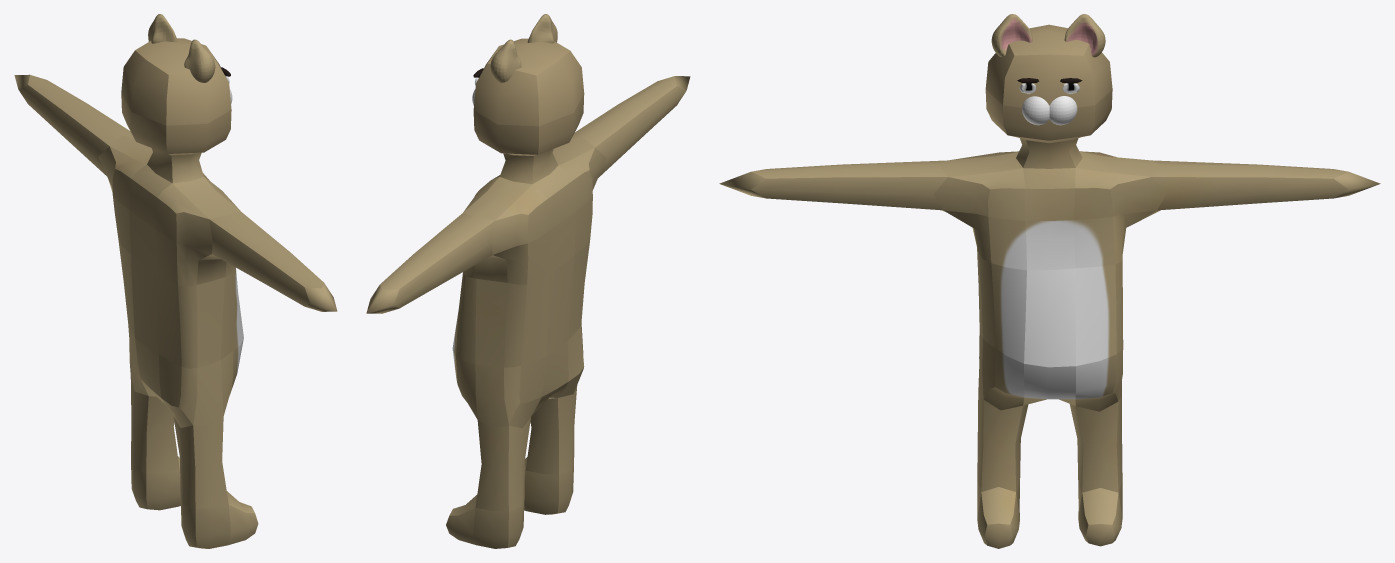
Rendered from Voxel.fbx.
3 views of the same model, side by side, from view 1: azimuth 30°, elevation 25°; view 2: azimuth 150°, elevation 25°; view 3: azimuth 270°, elevation 25° (orthographic). The views are drawn at different scales.
Visible parts, largest first — view 1: Sphere; view 2: Sphere; view 3: Sphere.
Boxes of the visible parts, left/top/right/bottom form: Sphere: left=14, top=14, right=337, bottom=548; Sphere: left=366, top=14, right=690, bottom=548; Sphere: left=719, top=14, right=1380, bottom=548.
Bounding box in the file's own units: 5.46 × 24.83 × 28.83.
Materials: 1 (1 with a texture image).
